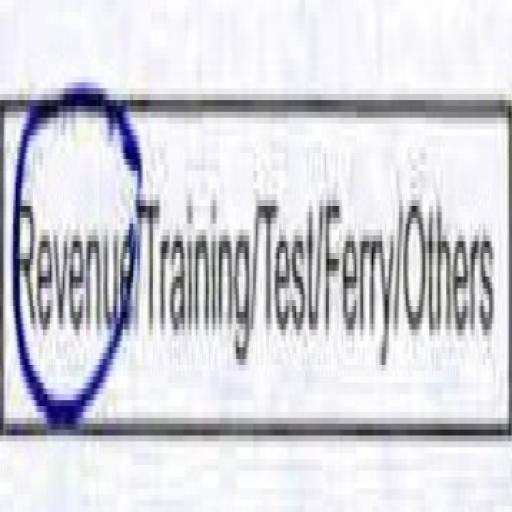check: (2, 15, 135, 487)
